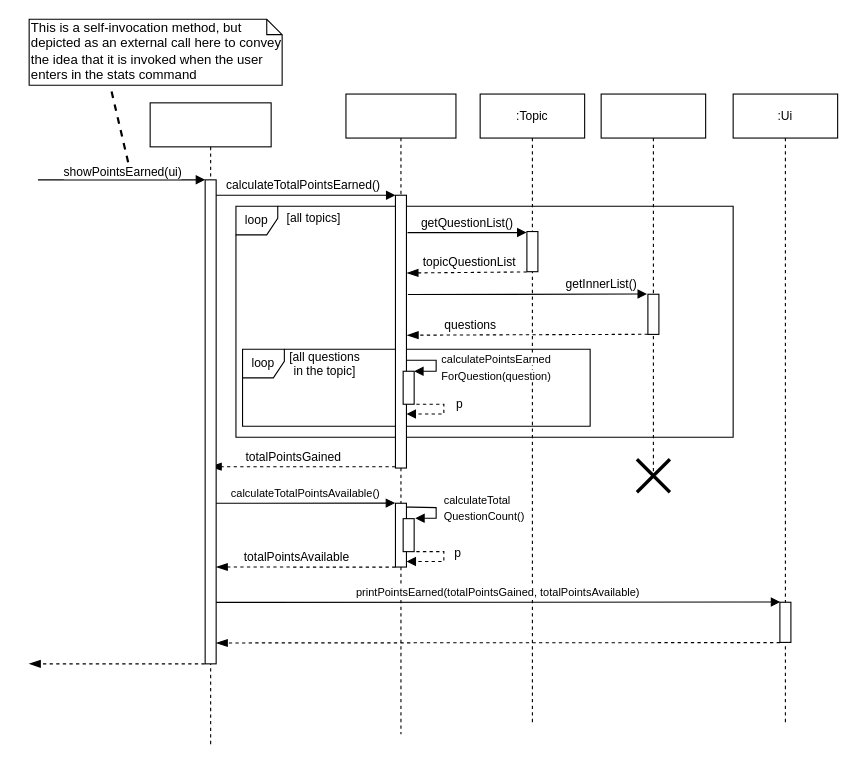
The diagram is 857 pixels wide and 765 high, and some of its shapes have lost their labels. Here are the shapes that lost their labels. From the top down, the box of each, then its label:
(600, 93, 706, 481): :QuestionList
(149, 102, 271, 745): :Stats
(345, 93, 456, 734): :UserStatsCalculator
